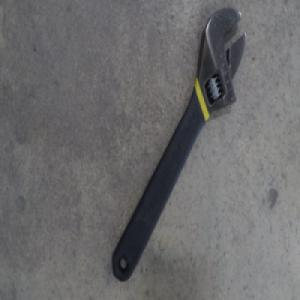AdjustableWrench: (111, 9, 247, 281)
